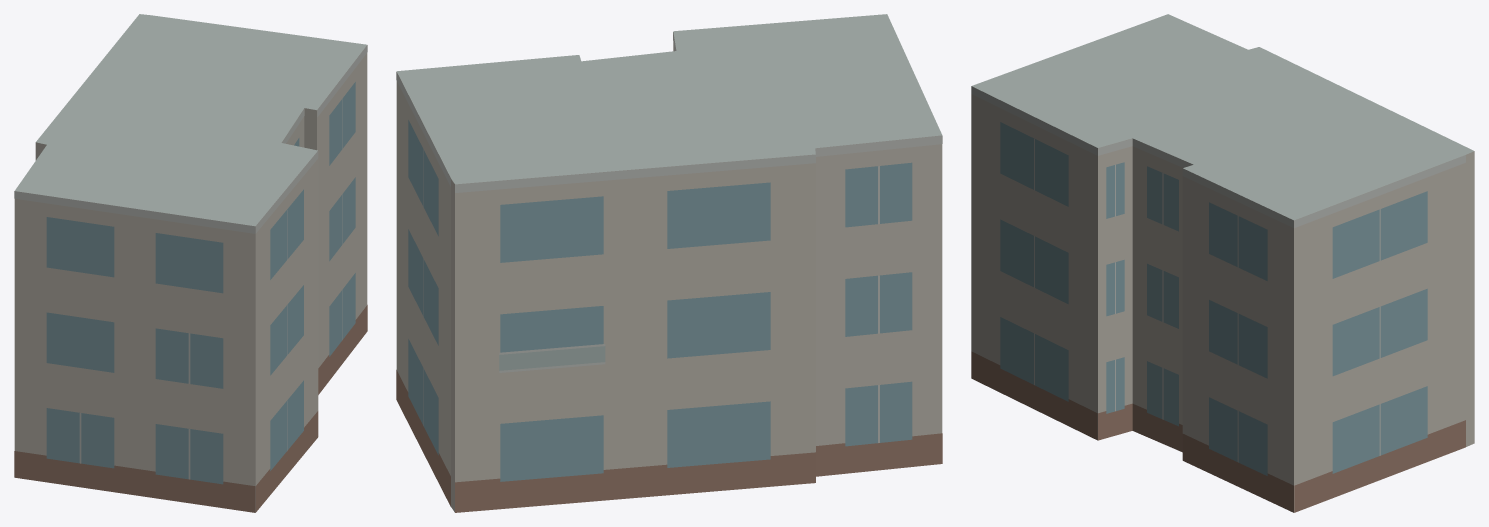
The model's file is survey-upis-32509679.glb.
3 renders of one model, left to right at view 1: azimuth 30°, elevation 25°; view 2: azimuth 150°, elevation 25°; view 3: azimuth 270°, elevation 25°, orthographic. The views are drawn at different scales.
Parts seen in each view (by area): view 1: survey-upis-32509679.tmp; view 2: survey-upis-32509679.tmp; view 3: survey-upis-32509679.tmp.
Part boxes in pixels (<box>): survey-upis-32509679.tmp: <box>14,14,367,512</box>; survey-upis-32509679.tmp: <box>396,14,942,512</box>; survey-upis-32509679.tmp: <box>971,14,1474,512</box>.
Size of the model in its own units: 13.86 by 9.15 by 14.28.
